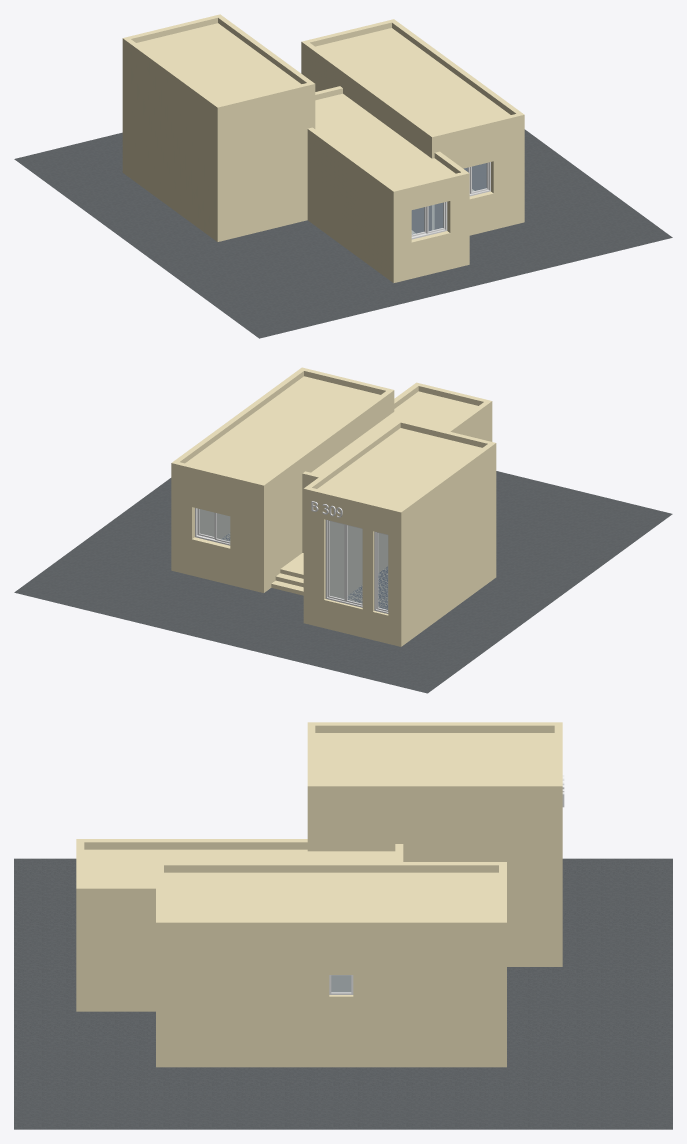
3 renders of one model, top to bottom at view 1: azimuth 30°, elevation 25°; view 2: azimuth 150°, elevation 25°; view 3: azimuth 270°, elevation 25°, orthographic. The views are drawn at different scales.
Parts seen in each view (by area): view 1: Root Node, 28518, 28664, 28508, 29022, 28970, 29074, 29341, 29340; view 2: Root Node, 28518, 28508, 29022, 28970, 29335, 29074, 28664, 29336, 29337, 28528; view 3: Root Node, 28508, 28518, 29022, 28664, 28970, 29074.
Boxes of the visible parts, x1,y1,x2,y2 form: Root Node: (14,129,672,338); 28518: (122,14,315,241); 28664: (307,86,469,282); 28508: (301,19,524,235); 29022: (315,28,510,133); 28970: (136,23,301,103); 29074: (315,93,455,188); 29341: (411,201,447,239); 29340: (464,162,490,196); Root Node: (14,471,672,693); 28518: (303,419,496,646); 28508: (171,367,394,592); 29022: (185,376,380,481); 28970: (317,428,481,508); 29335: (325,520,362,607); 29074: (311,391,477,475); 28664: (302,382,492,552); 29336: (374,531,388,613); 29337: (195,508,230,545); 28528: (271,553,303,595); Root Node: (14,858,672,1129); 28508: (156,862,506,1067); 28518: (307,722,562,966); 29022: (164,872,498,919); 28664: (76,839,403,1011); 28970: (315,733,554,782); 29074: (84,849,395,885).
Bounding box in the file's own units: 16.09 × 5 × 16.53.
560 materials, 1 textured.
